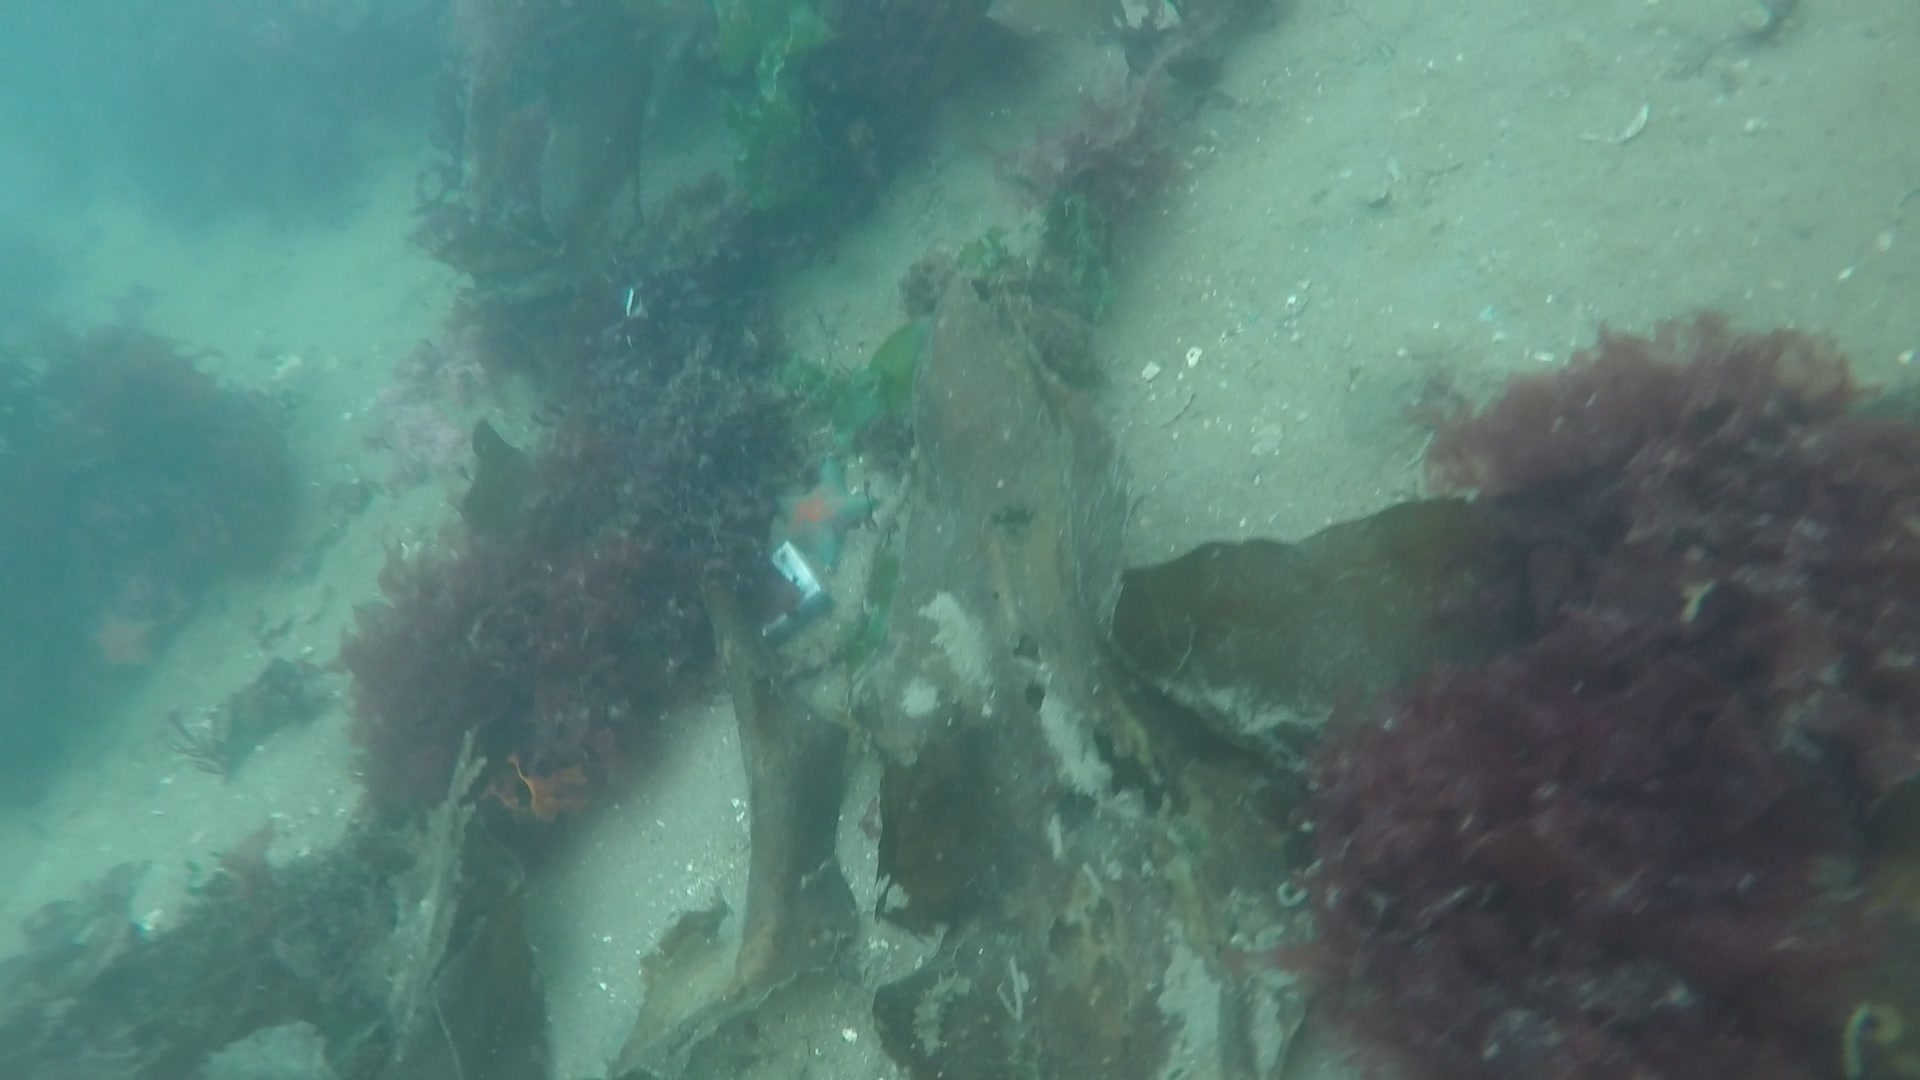starfish: (762, 458, 881, 582), (76, 596, 174, 688)
